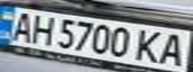0: (109, 25, 136, 58), (90, 21, 112, 55)
5: (51, 16, 78, 50)
7: (72, 19, 93, 52)
A: (157, 30, 190, 68), (3, 9, 39, 43)
H: (24, 12, 57, 46)
K: (133, 28, 166, 64)
